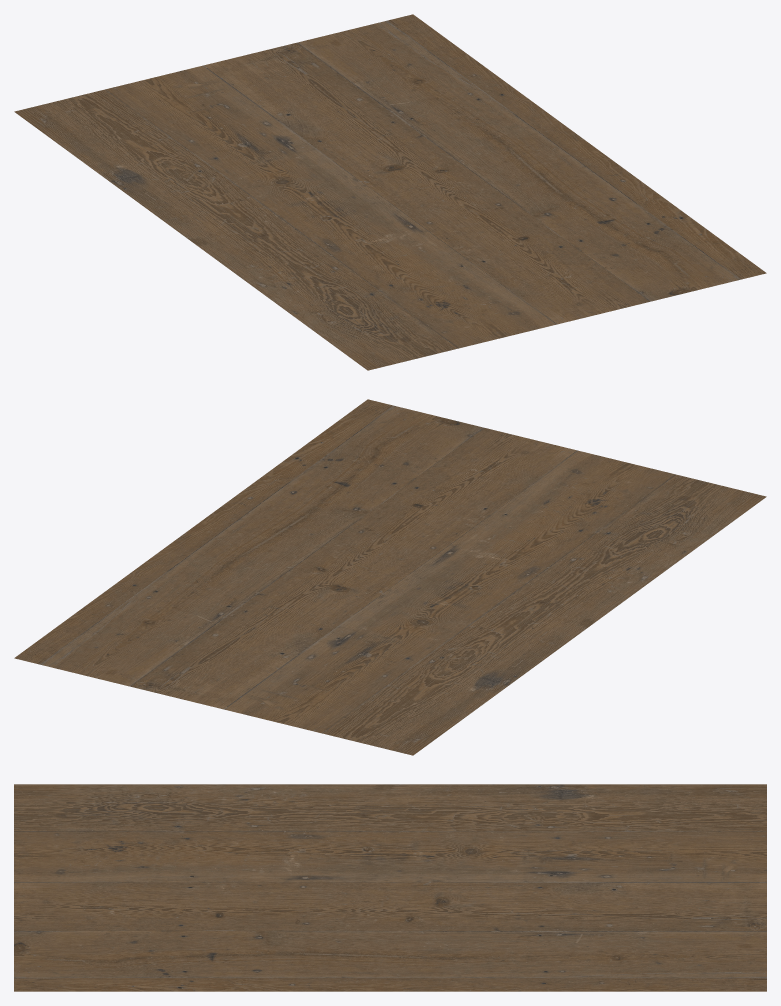
Rendered from SM_Floor01M.fbx.
3 renders of one model, top to bottom at view 1: azimuth 30°, elevation 25°; view 2: azimuth 150°, elevation 25°; view 3: azimuth 270°, elevation 25°, orthographic. The views are drawn at different scales.
Visible parts, largest first — view 1: SM_Floor01M; view 2: SM_Floor01M; view 3: SM_Floor01M.
Part boxes in pixels (x1,y1,x2,y2): SM_Floor01M: [14, 14, 766, 370]; SM_Floor01M: [14, 399, 766, 755]; SM_Floor01M: [14, 784, 766, 991].
Bounding box in the file's own units: 163 × 251 × 1.99e-06.
